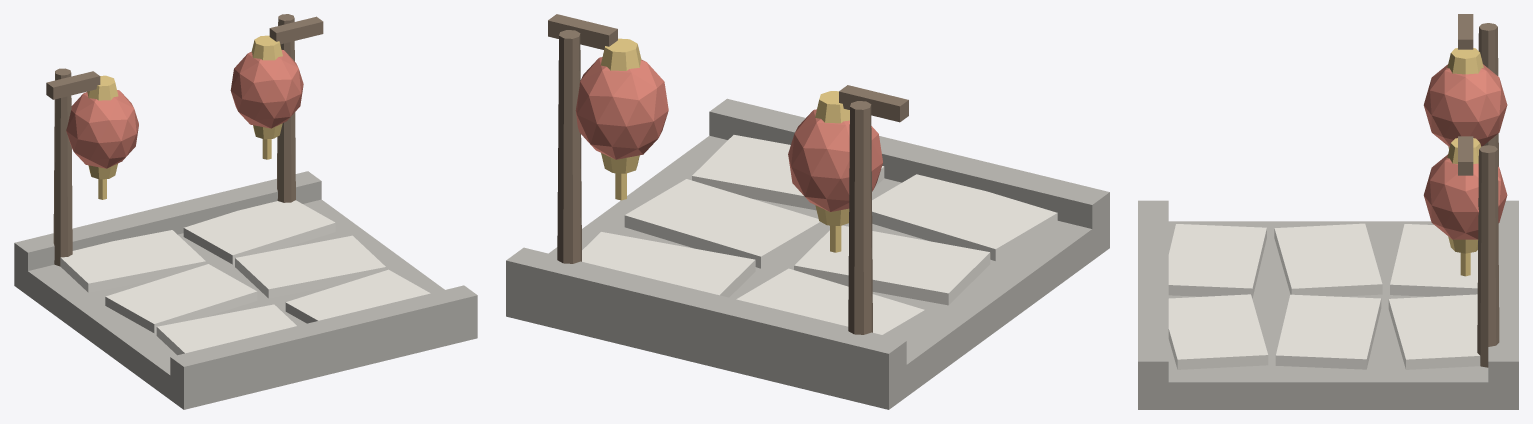
File: SM_Prop_Street.fbx
The picture shows the model from 3 angles, left to right: view 1: azimuth 30°, elevation 25°; view 2: azimuth 150°, elevation 25°; view 3: azimuth 270°, elevation 25°; orthographic projection. The views are drawn at different scales.
Parts seen in each view (by area): view 1: Street; view 2: Street; view 3: Street.
Part boxes in pixels (<box>): Street: <box>14,14,477,409</box>; Street: <box>506,14,1109,409</box>; Street: <box>1138,14,1518,409</box>.
Size of the model in its own units: 1 by 0.7 by 1.
